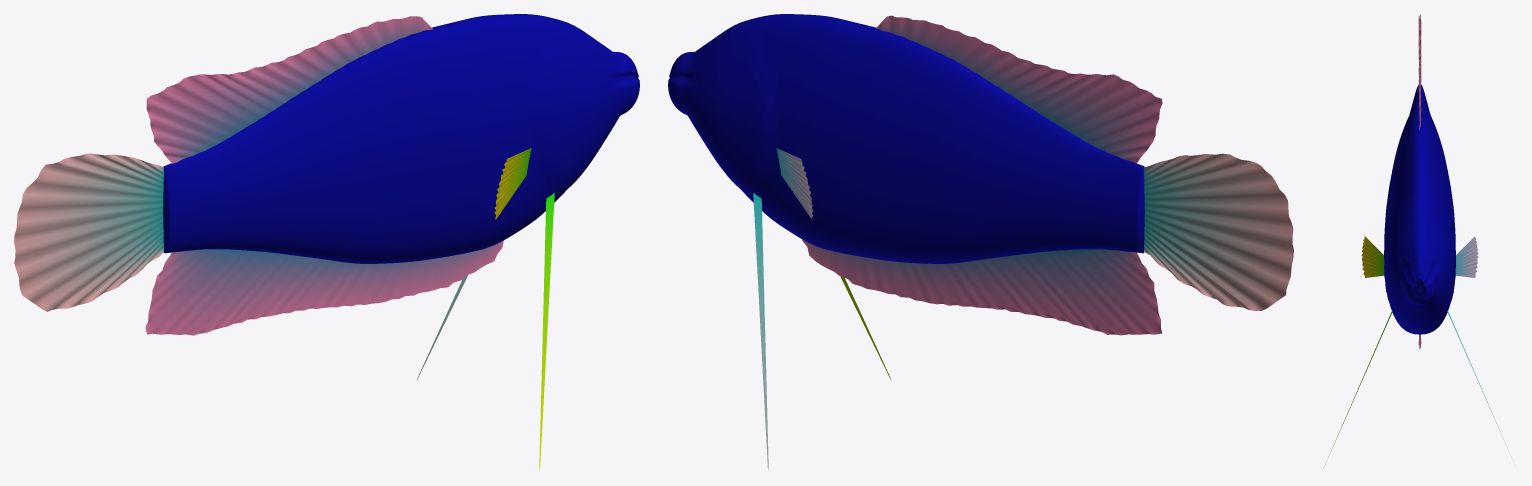
The model's file is gourami.glb.
3 views of the same model, side by side, from view 1: azimuth 30°, elevation 25°; view 2: azimuth 150°, elevation 25°; view 3: azimuth 270°, elevation 25° (orthographic). The views are drawn at different scales.
Visible parts, largest first — view 1: gourami; view 2: gourami; view 3: gourami.
Part boxes in pixels (x1,y1,x2,y2): gourami: (14, 14, 639, 470); gourami: (668, 14, 1293, 470); gourami: (1325, 14, 1514, 464).
Bounding box in the file's own units: 1.31 × 0.8658 × 0.4515.
